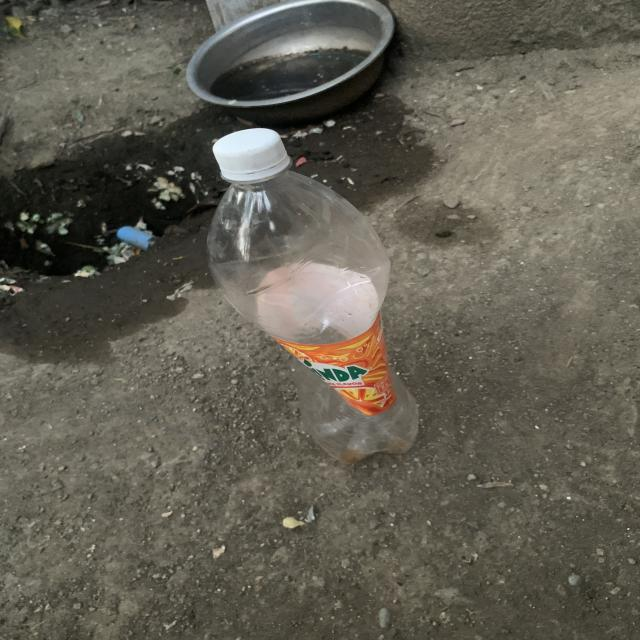Bottle: (207, 128, 418, 462)
